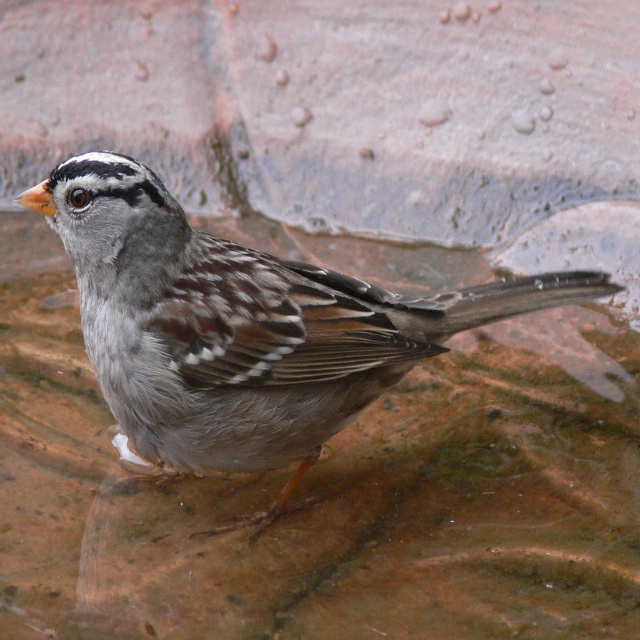Sparrow: (11, 149, 629, 550)
